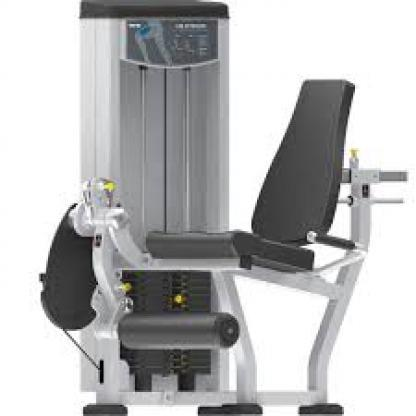leg extension: (29, 0, 416, 416)
